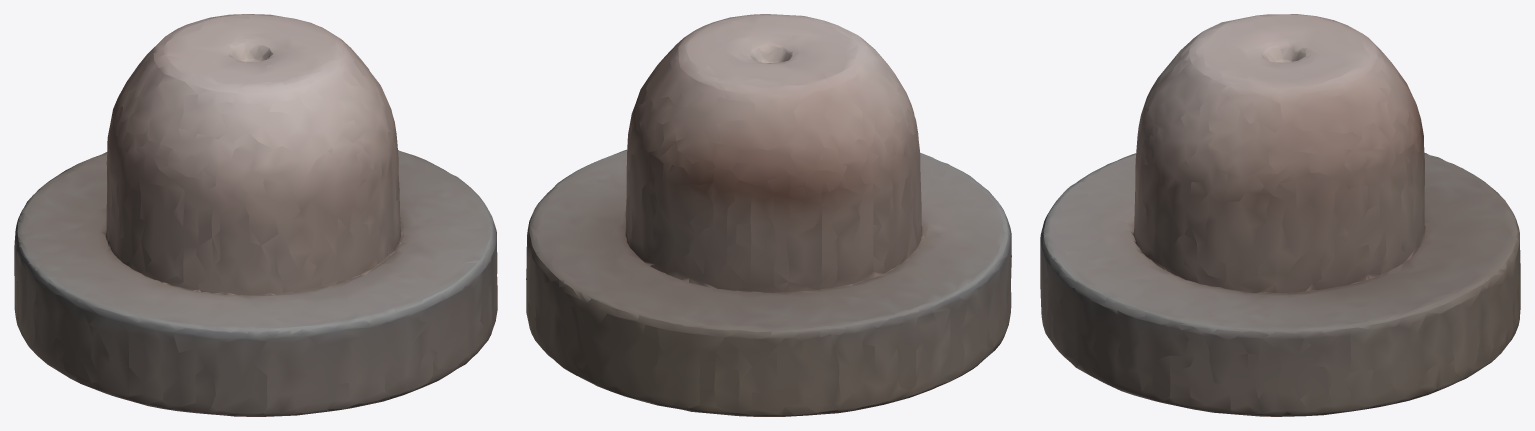
File: 0019_mask_020_small_wooden_object.glb
3 views of the same model, side by side, from view 1: azimuth 30°, elevation 25°; view 2: azimuth 150°, elevation 25°; view 3: azimuth 270°, elevation 25° (orthographic).
Parts seen in each view (by area): view 1: mask_020_object; view 2: mask_020_object; view 3: mask_020_object.
Boxes of the visible parts, x1,y1,x2,y2 form: mask_020_object: (14, 14, 497, 416); mask_020_object: (526, 14, 1011, 416); mask_020_object: (1040, 14, 1520, 416).
Size of the model in its own units: 0.0828 by 0.0509 by 0.0827.
